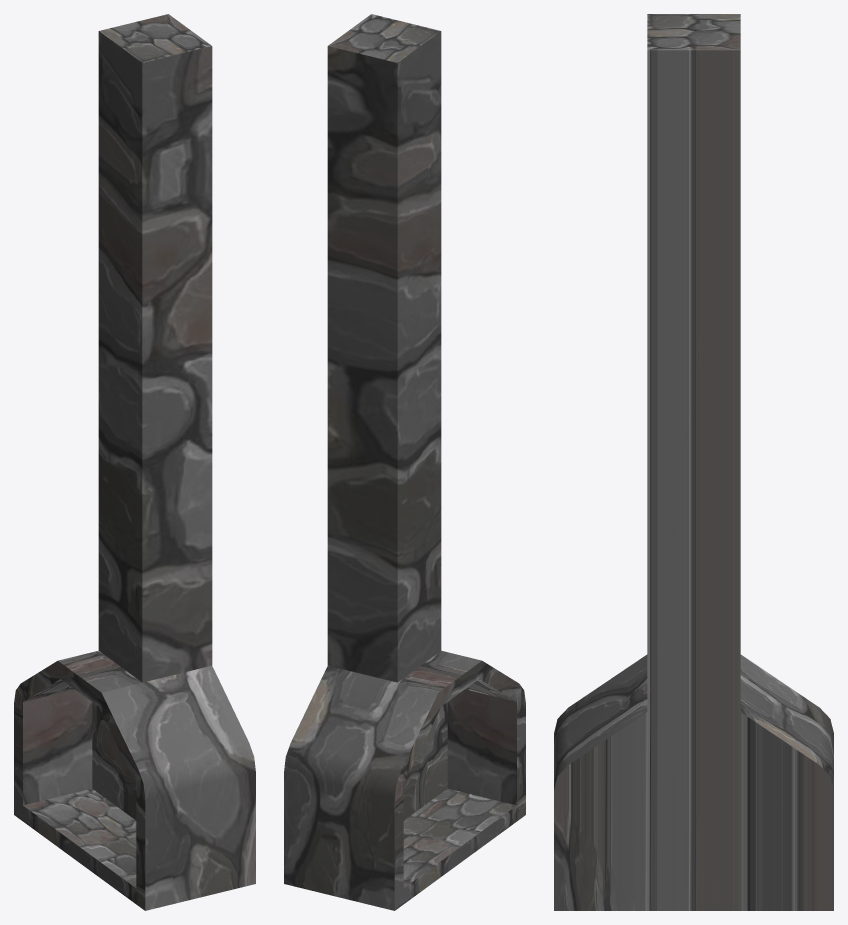
File: FirePlace.FBX
3 views of the same model, side by side, from view 1: azimuth 30°, elevation 25°; view 2: azimuth 150°, elevation 25°; view 3: azimuth 270°, elevation 25° (orthographic). The views are drawn at different scales.
Visible parts, largest first — view 1: Box008; view 2: Box008; view 3: Box008.
Part boxes in pixels (box(x1,y1,x2,y2)): Box008: box(14, 14, 255, 910); Box008: box(284, 14, 525, 910); Box008: box(554, 14, 833, 910).
Bounding box in the file's own units: 1.42 × 9.85 × 2.9.
1 material, 1 textured.
